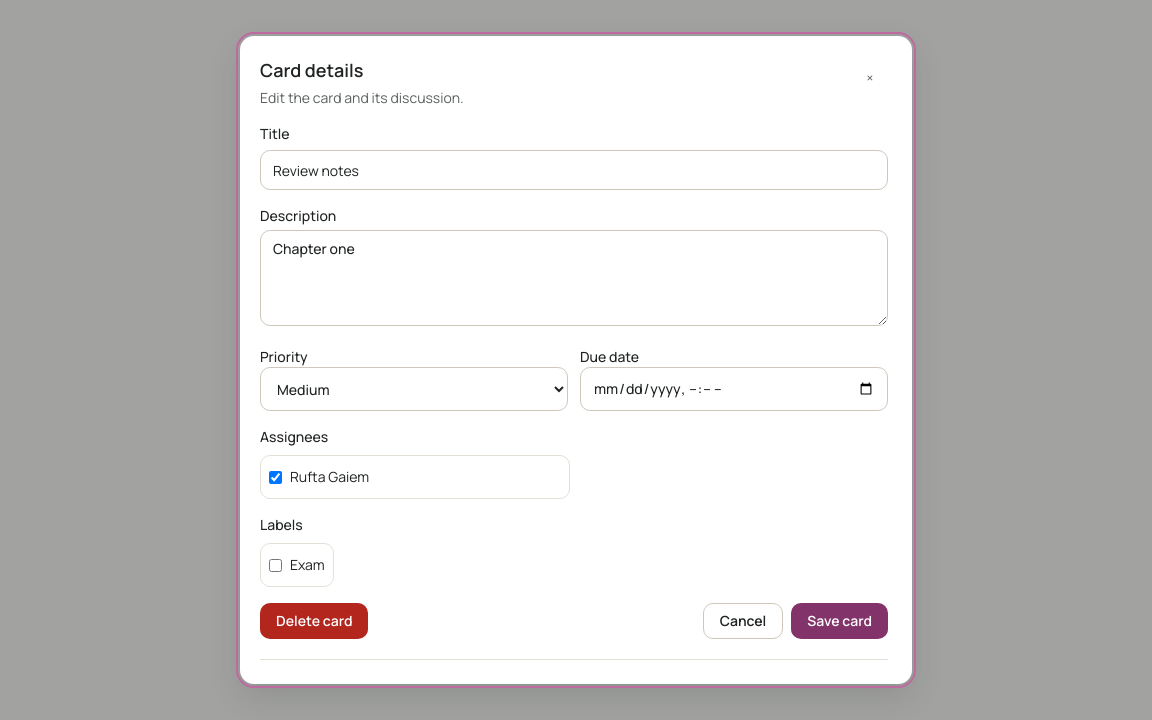
Test case: BoardCardDialog › TC-TASK-02: shows the mapped 403 response after confirmed card deletion
Expected: the field showing "Review notes" is shown, left=260, top=150, right=888, bottom=190
Click the button "Delete card" at (314, 621), box left=260, top=603, right=368, bottom=639
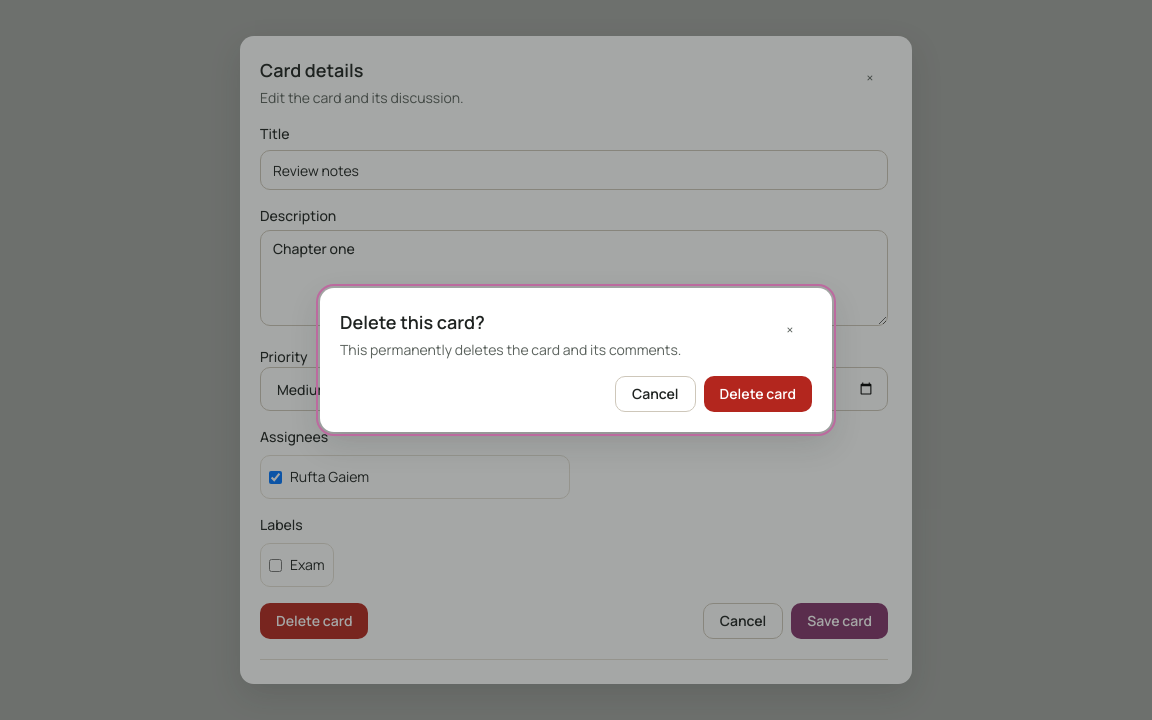
Click the button "Delete card" at (758, 394), box left=704, top=376, right=812, bottom=412
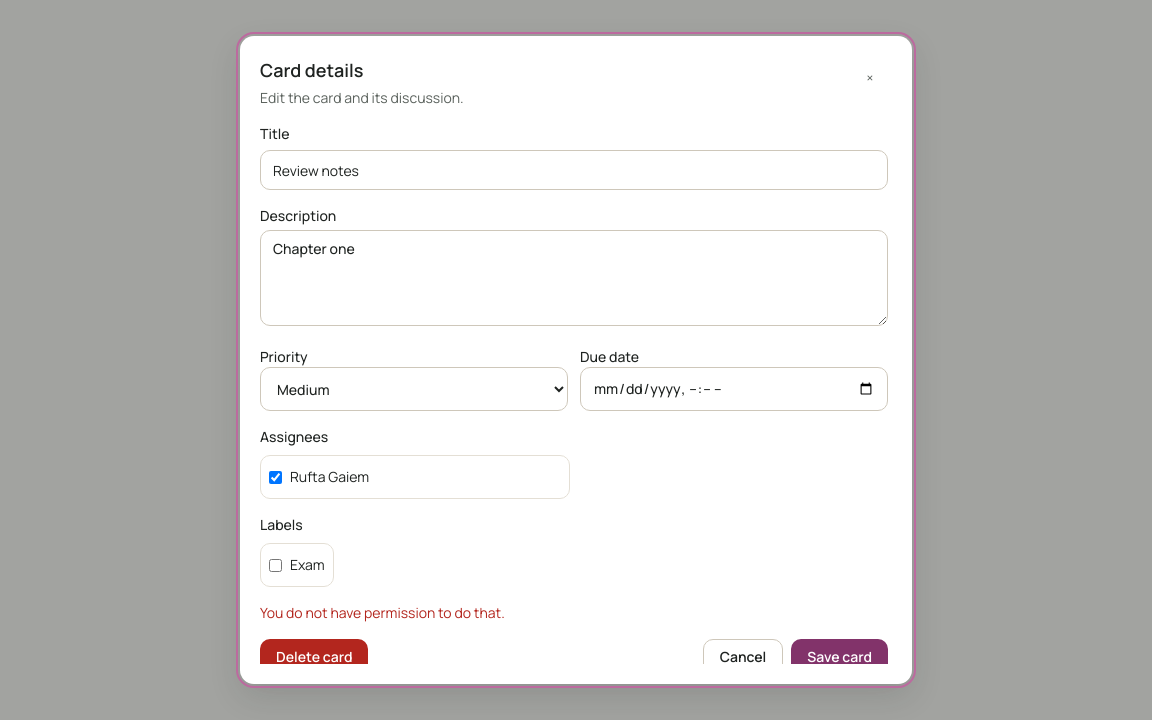
Result: the text "You do not have permission to do that." is shown at left=260, top=603, right=505, bottom=622
